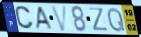8: (70, 5, 88, 33)
A: (34, 5, 53, 30)
C: (14, 5, 35, 31)
Q: (106, 7, 127, 34)
V: (50, 5, 69, 32)
Z: (88, 7, 110, 32)
